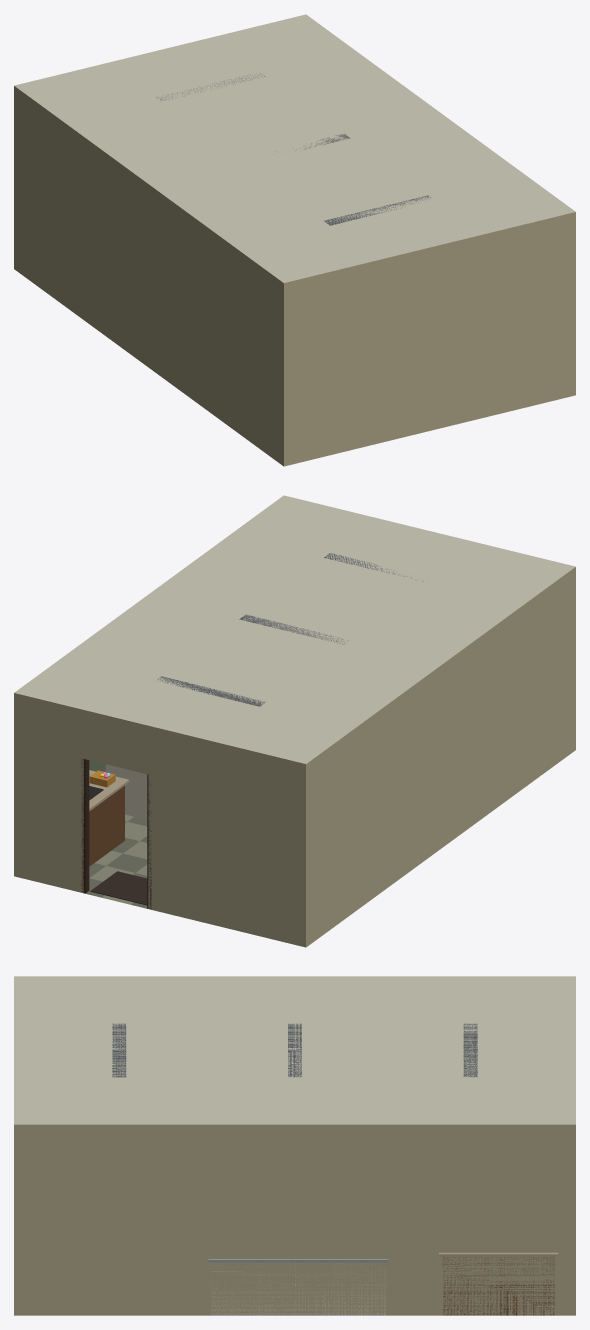
The model's file is negozio_interno.obj.
3 views of the same model, one above another, from view 1: azimuth 30°, elevation 25°; view 2: azimuth 150°, elevation 25°; view 3: azimuth 270°, elevation 25° (orthographic). The views are drawn at different scales.
Visible parts, largest first — view 1: parte_02, parte_04, parte_07; view 2: parte_02, parte_04, parte_43, parte_07, parte_05, parte_00, parte_01, parte_06, parte_37; view 3: parte_02, parte_04, parte_43, parte_37, parte_07, parte_38, parte_44.
Boxes of the visible parts, x1,y1,x2,y2 form: parte_02: (14,86,575,466); parte_04: (14,14,575,282); parte_07: (156,74,430,225); parte_02: (14,567,575,947); parte_04: (14,495,575,763); parte_43: (89,786,124,866); parte_07: (157,553,423,706); parte_05: (81,759,151,909); parte_00: (89,814,147,904); parte_01: (85,817,147,908); parte_06: (90,871,147,905); parte_37: (105,764,147,819); parte_02: (14,1124,575,1315); parte_04: (14,976,575,1124); parte_43: (442,1256,554,1315); parte_37: (210,1263,385,1315); parte_07: (112,1023,477,1077); parte_38: (208,1259,388,1262); parte_44: (439,1252,558,1256).
Bounding box in the file's own units: 5.05 × 3 × 8.
